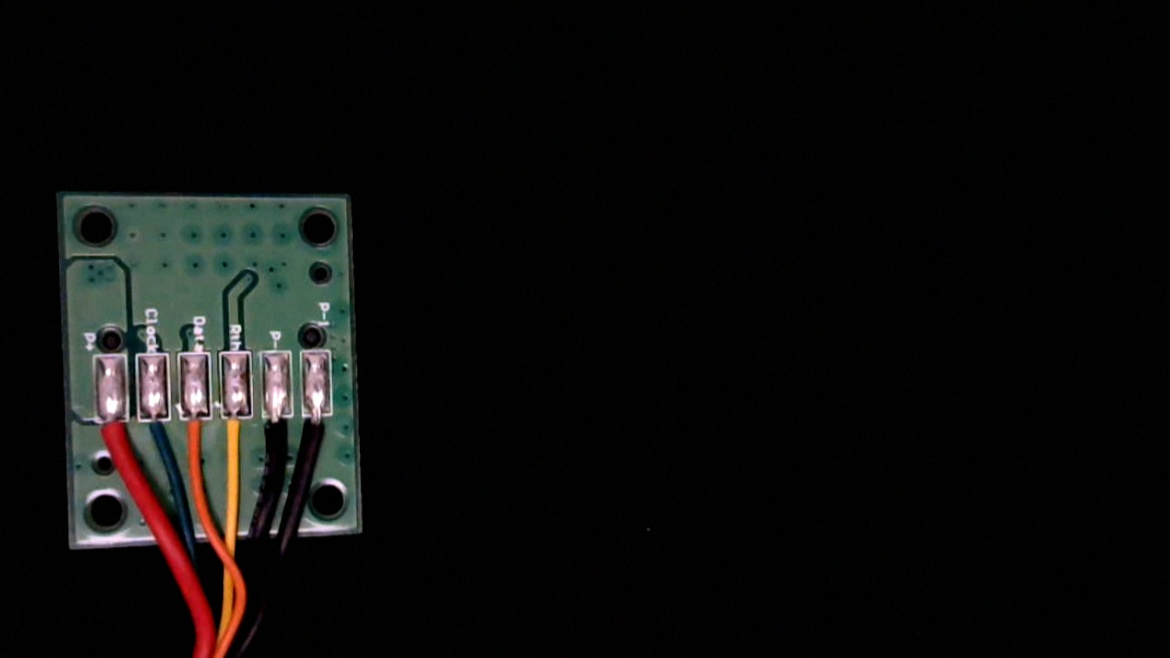Black: (261, 400, 293, 467)
Black1: (300, 400, 334, 469)
Green: (136, 402, 171, 463)
Orange: (177, 402, 210, 465)
Red: (93, 404, 130, 477)
Yellow: (220, 402, 255, 466)
